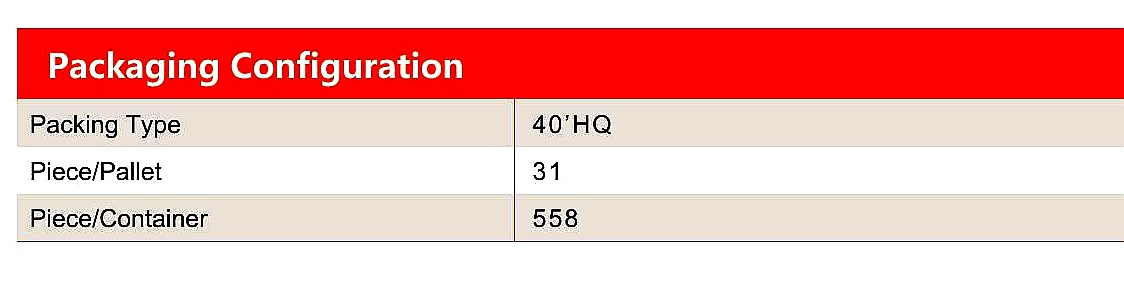table: (9, 16, 1124, 256)
table column: (517, 29, 1120, 241), (18, 29, 515, 241)
table name: (16, 28, 1124, 94)
table row: (16, 31, 1124, 95), (18, 99, 1123, 148), (16, 195, 1124, 241), (18, 150, 1123, 194)
table row header: (15, 29, 515, 240)
table spanning cell: (16, 28, 1124, 95)
